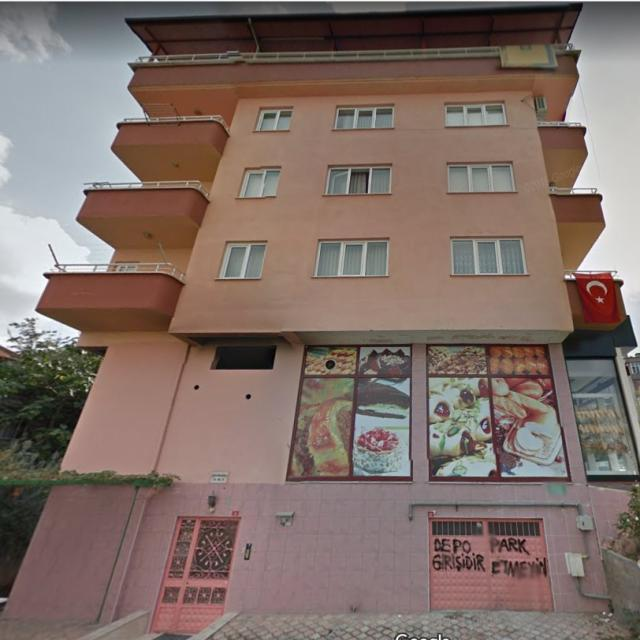Building: (0, 2, 640, 635)
